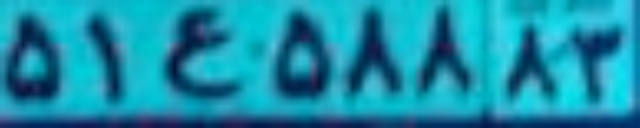1: (81, 11, 126, 102)
3: (566, 24, 629, 103)
5: (267, 7, 333, 98), (2, 15, 66, 100)
8: (412, 6, 477, 96), (344, 6, 403, 98), (501, 21, 556, 101)
ain: (163, 8, 241, 97)
